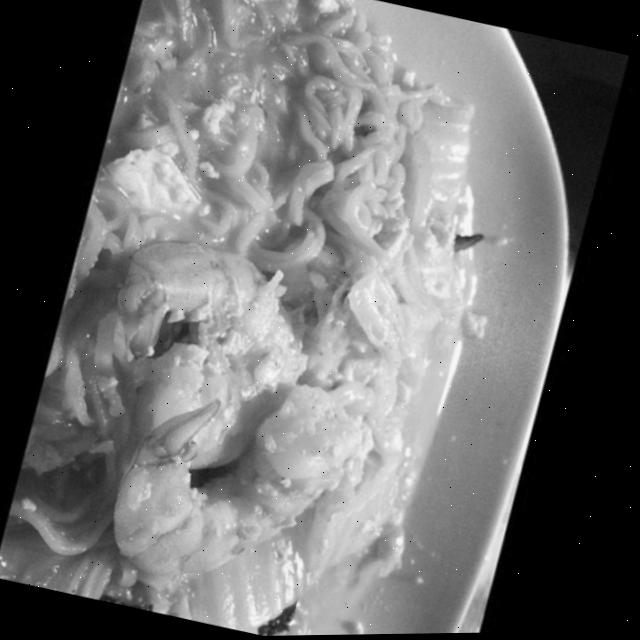汤锅炖物: (49, 16, 575, 639)
